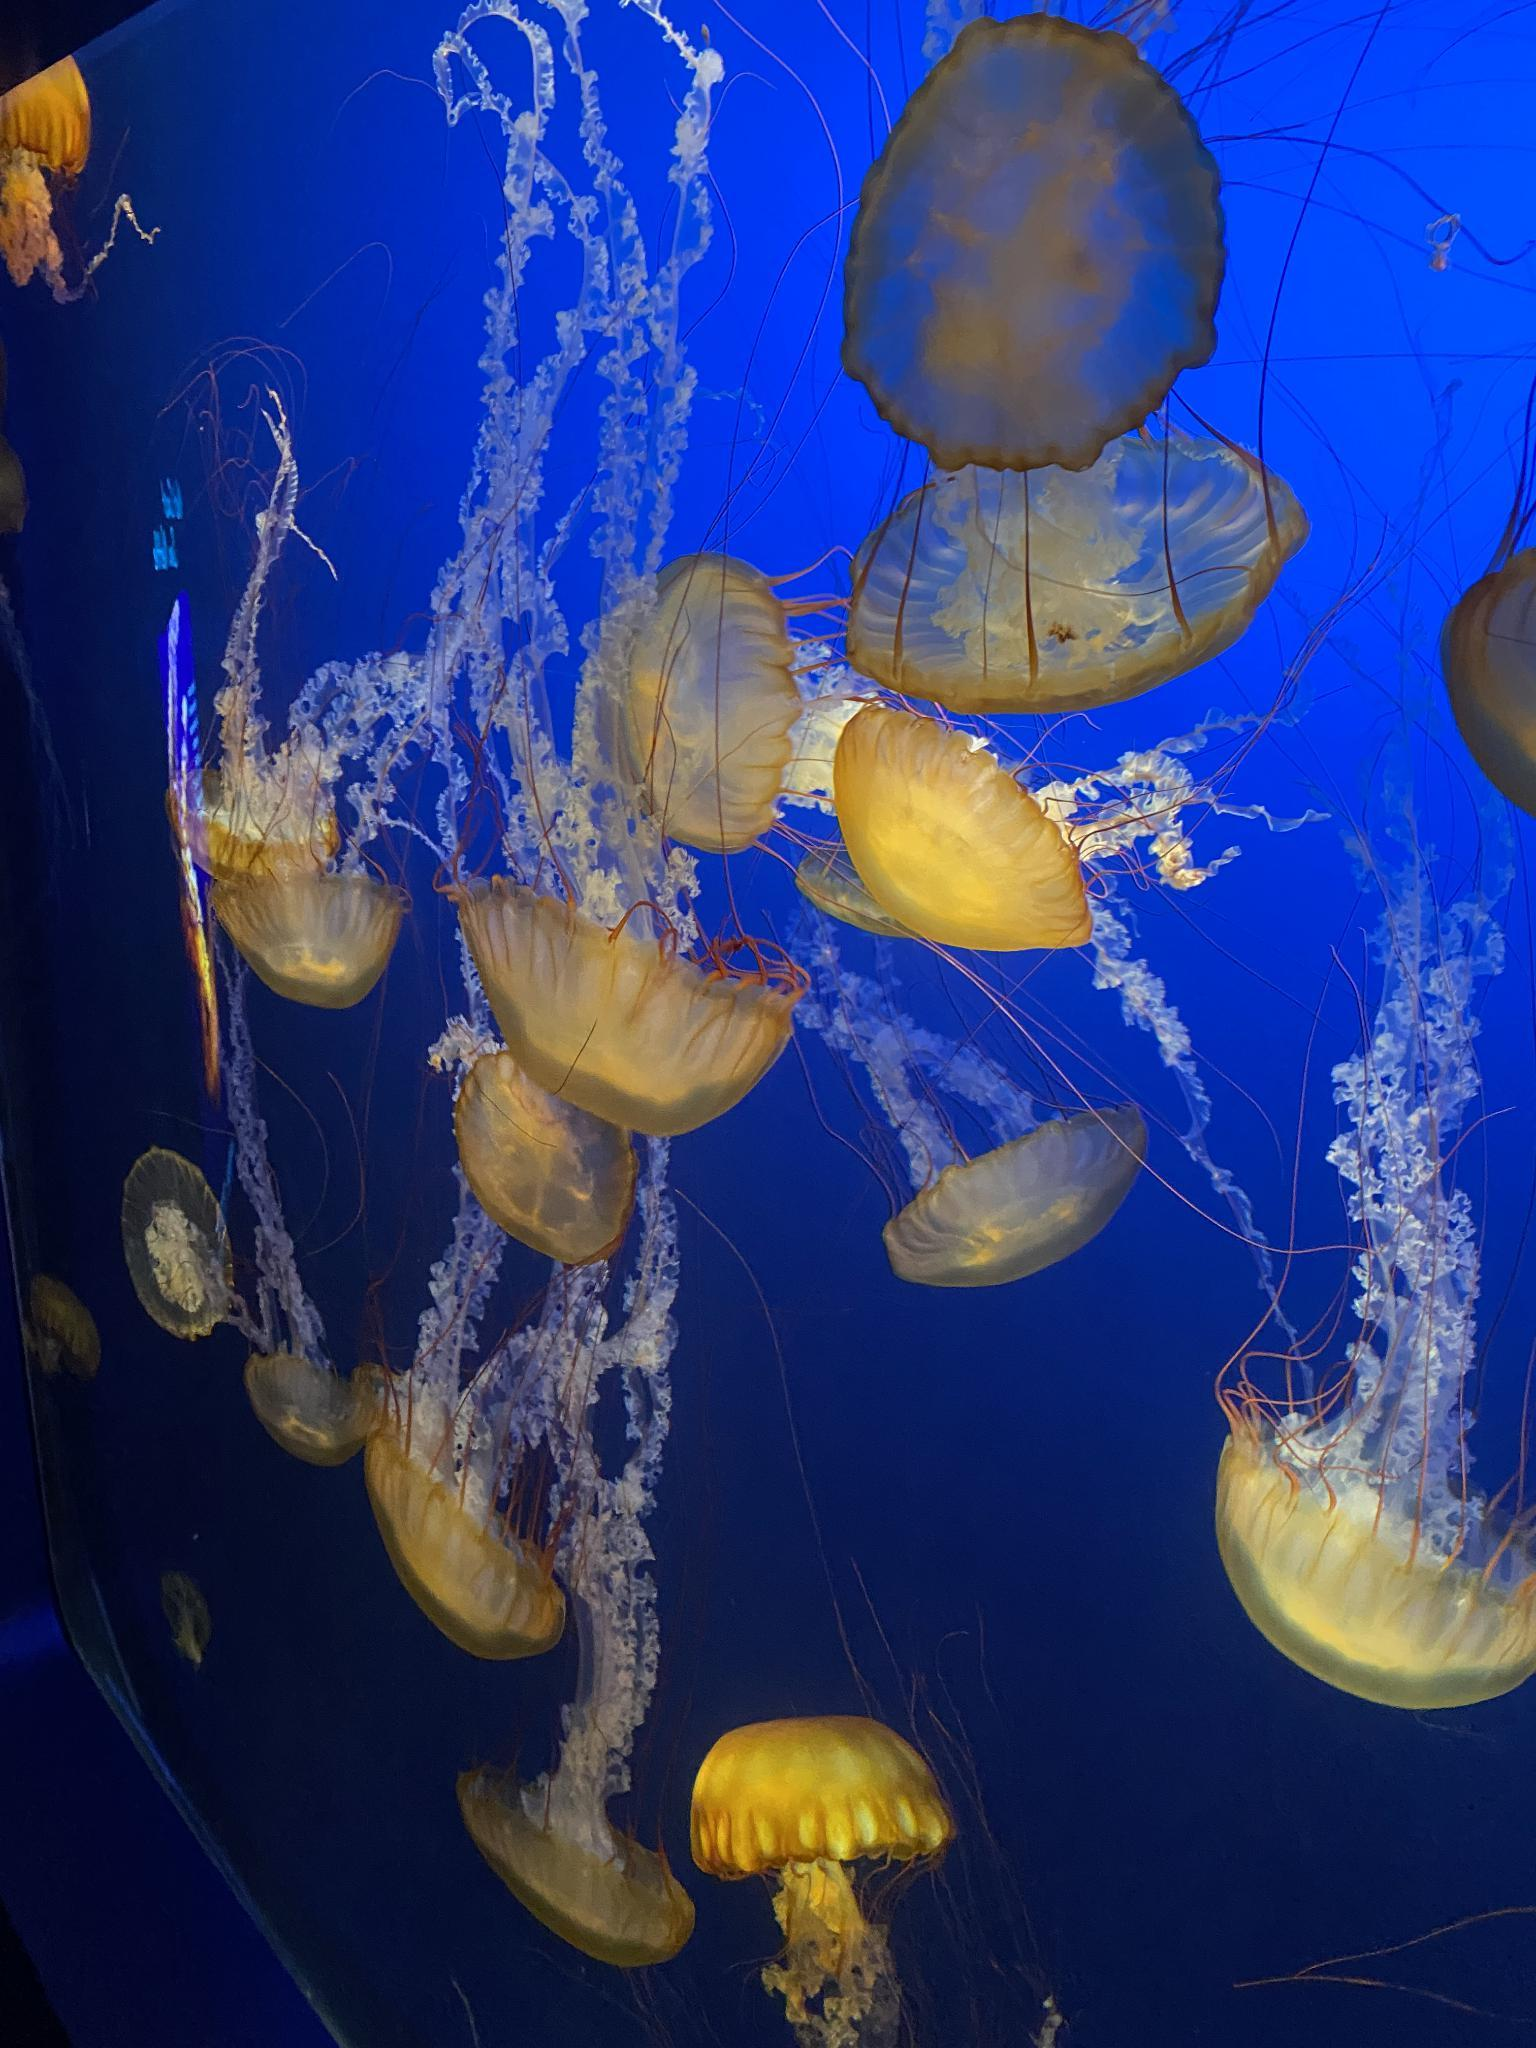jellyfish: (841, 18, 1221, 472), (842, 431, 1304, 713), (1217, 1422, 1534, 1713), (457, 880, 795, 1140), (836, 698, 1096, 956), (597, 552, 779, 855), (879, 1101, 1146, 1306), (363, 1419, 563, 1663), (452, 1767, 695, 1967), (695, 1713, 952, 1882), (457, 1053, 644, 1274), (215, 884, 408, 1019), (1439, 553, 1534, 827), (116, 1150, 244, 1338), (160, 760, 336, 890), (247, 1356, 386, 1459), (0, 48, 98, 171), (24, 1276, 106, 1384), (157, 1577, 213, 1646), (0, 439, 26, 535)
